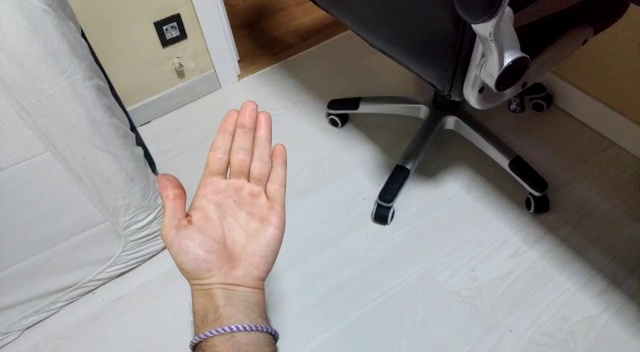Palm: (152, 95, 299, 299)
